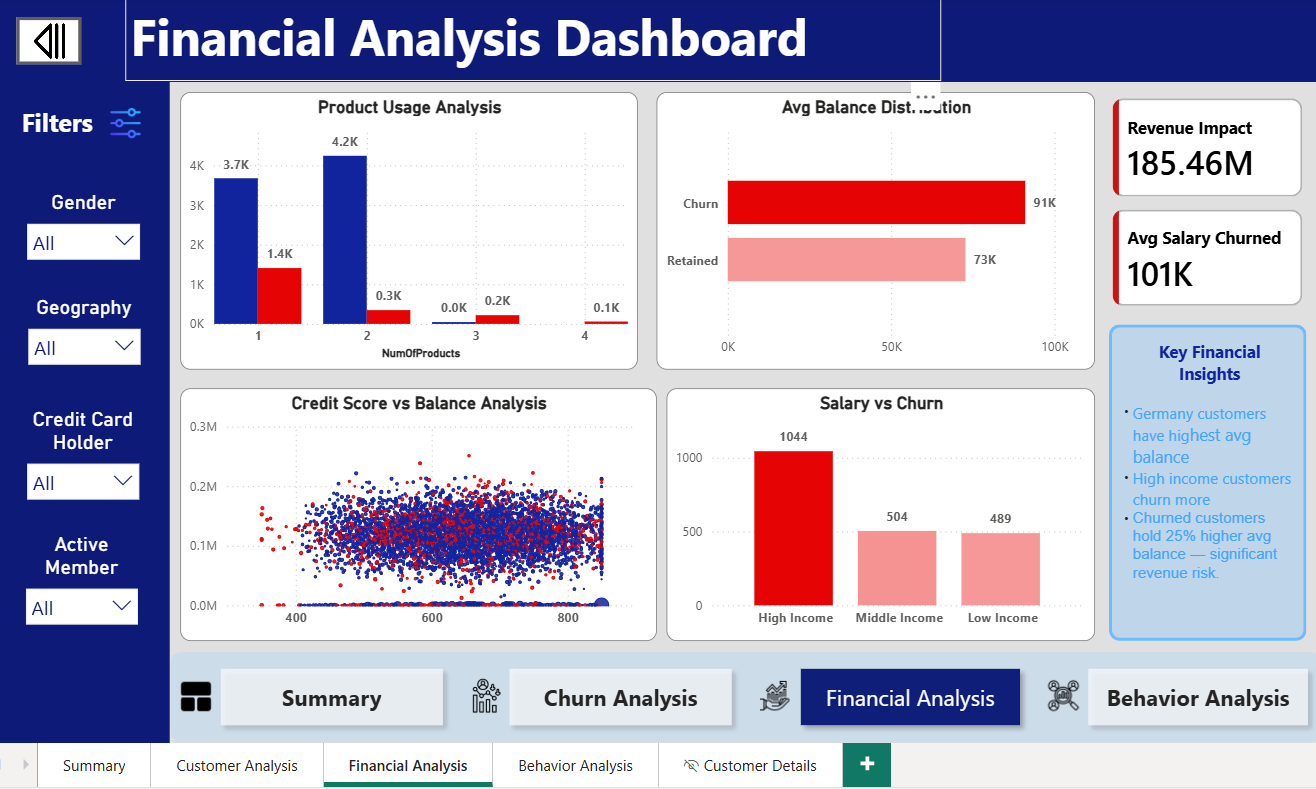

Layout of this report page (visuals, bound fields, positions):
{"tool":"powerbi","page":{"name":"Financial Analysis","canvas":[1280,720],"ordinal":2},"visuals":[{"type":"shape","box":[1076.1,316.1,190.6,305.2],"z":0},{"type":"shape","box":[169.7,631.7,1110.3,87.7],"z":1000},{"type":"actionButton","box":[210.1,640,232.3,72.3],"z":2000},{"type":"actionButton","box":[488.3,640,232.3,72.3],"z":3000},{"type":"actionButton","box":[1047.7,640,230,72.3],"z":4000},{"type":"image","box":[179.5,658.1,30.6,34.8],"z":5000},{"type":"image","box":[452.2,658.1,45.9,33.4],"z":6000},{"type":"image","box":[738.8,658.1,30.6,34],"z":7000},{"type":"actionButton","box":[769.4,640,229.6,72.3],"z":8000},{"type":"image","box":[1017,658.1,30.6,34],"z":9000},{"type":"shape","box":[0,73,169.7,647],"z":10000},{"type":"shape","box":[0,1.2,1280,80.8],"z":11000},{"type":"actionButton","box":[22.3,19.5,62.6,45.9],"z":12000},{"type":"cardVisual","fields":{"Data":["01Measures.Revenue Impact"]},"box":[1062.9,80.8,217.2,129.1],"z":13000},{"type":"cardVisual","fields":{"Data":["01Measures.Avg Salary Churned"]},"box":[1062.9,188.2,217.2,127.9],"z":14000},{"type":"clusteredBarChart","title":"Avg Balance Distribution","fields":{"Y":["01Measures.Avg Balance"],"Category":["Bank_Churn.Churn Status"]},"box":[639.4,91.7,423.5,267.8],"z":15000},{"type":"scatterChart","title":"Credit Score vs Balance Analysis","fields":{"Series":["Bank_Churn.Exited"],"Size":["Sum(Bank_Churn.EstimatedSalary)"],"X":["Bank_Churn.CreditScore"],"Y":["Bank_Churn.Balance"]},"box":[179.8,377.6,459.7,243.7],"z":16000},{"type":"clusteredColumnChart","title":"Product Usage Analysis","fields":{"Category":["Bank_Churn.NumOfProducts"],"Series":["Bank_Churn.Exited"],"Y":["01Measures.Total_Customer"]},"box":[179.8,91.7,441.6,267.8],"z":17000},{"type":"clusteredColumnChart","title":"Salary vs Churn","fields":{"Category":["Bank_Churn.Salary Group"],"Y":["01Measures.Churn Customers"]},"box":[649.1,377.6,413.8,243.7],"z":18000},{"type":"textbox","box":[126.7,0,787.8,80.8],"z":19000},{"type":"slicer","title":"Gender","fields":{"Values":["Gender.GenderCategory"]},"box":[21.1,187.3,129.6,95.8],"z":20000},{"type":"slicer","title":"Geography","fields":{"Values":["Geography.GeographyLocation"]},"box":[22.5,288.7,128.2,97.2],"z":21000},{"type":"slicer","title":"Active Member","fields":{"Values":["ActiveCustomer.ActiveCategory"]},"box":[20.9,517.6,128,97.4],"z":22000},{"type":"slicer","title":"Credit Card Holder","fields":{"Values":["CreditCard.Category"]},"box":[22.3,396.5,128,108.5],"z":23000},{"type":"textbox","box":[21.2,100,90,45],"z":24000},{"type":"image","box":[97.5,103.8,58.8,36.2],"z":25000},{"type":"textbox","box":[1090,326.2,167.5,73.8],"z":26000},{"type":"textbox","box":[1076.1,386.1,181,235.3],"z":27000}]}

Visuals, with their boxes on the page's 1280x720 design canvas (x1, y1, x2, y2). These are canvas units, not pixel positions in the 1316x789 screenshot, which may show the page scaled, cropped or inside an application window:
shape: Rect(1076, 316, 1267, 621)
shape: Rect(170, 632, 1280, 719)
actionButton: Rect(210, 640, 442, 712)
actionButton: Rect(488, 640, 721, 712)
actionButton: Rect(1048, 640, 1278, 712)
image: Rect(180, 658, 210, 693)
image: Rect(452, 658, 498, 692)
image: Rect(739, 658, 769, 692)
actionButton: Rect(769, 640, 999, 712)
image: Rect(1017, 658, 1048, 692)
shape: Rect(0, 73, 170, 720)
shape: Rect(0, 1, 1280, 82)
actionButton: Rect(22, 20, 85, 65)
cardVisual - 01Measures.Revenue Impact: Rect(1063, 81, 1280, 210)
cardVisual - 01Measures.Avg Salary Churned: Rect(1063, 188, 1280, 316)
"Avg Balance Distribution" clusteredBarChart: Rect(639, 92, 1063, 360)
"Credit Score vs Balance Analysis" scatterChart: Rect(180, 378, 640, 621)
"Product Usage Analysis" clusteredColumnChart: Rect(180, 92, 621, 360)
"Salary vs Churn" clusteredColumnChart: Rect(649, 378, 1063, 621)
textbox: Rect(127, 0, 914, 81)
"Gender" slicer: Rect(21, 187, 151, 283)
"Geography" slicer: Rect(22, 289, 151, 386)
"Active Member" slicer: Rect(21, 518, 149, 615)
"Credit Card Holder" slicer: Rect(22, 396, 150, 505)
textbox: Rect(21, 100, 111, 145)
image: Rect(98, 104, 156, 140)
textbox: Rect(1090, 326, 1258, 400)
textbox: Rect(1076, 386, 1257, 621)
